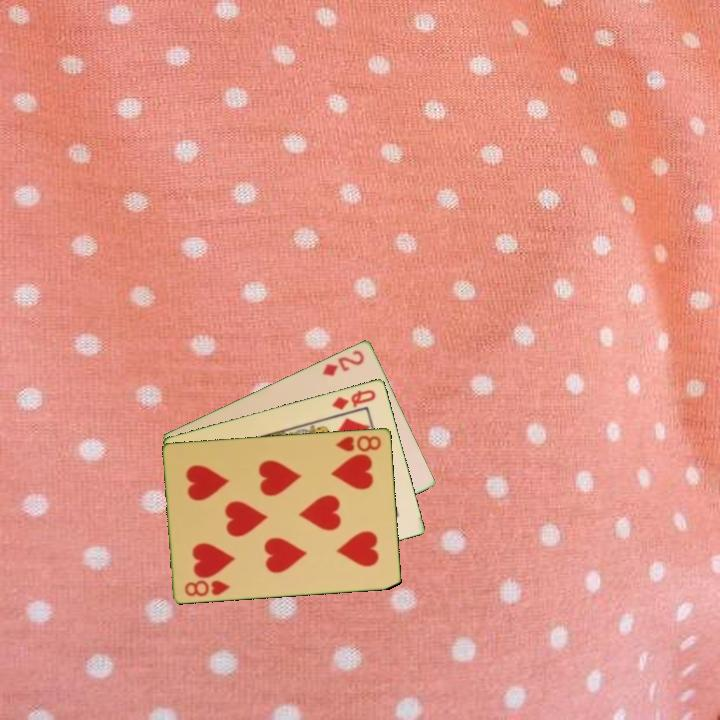2d: (319, 346, 367, 379)
8h: (181, 576, 233, 599), (332, 432, 384, 454)
Qd: (328, 386, 379, 412)
